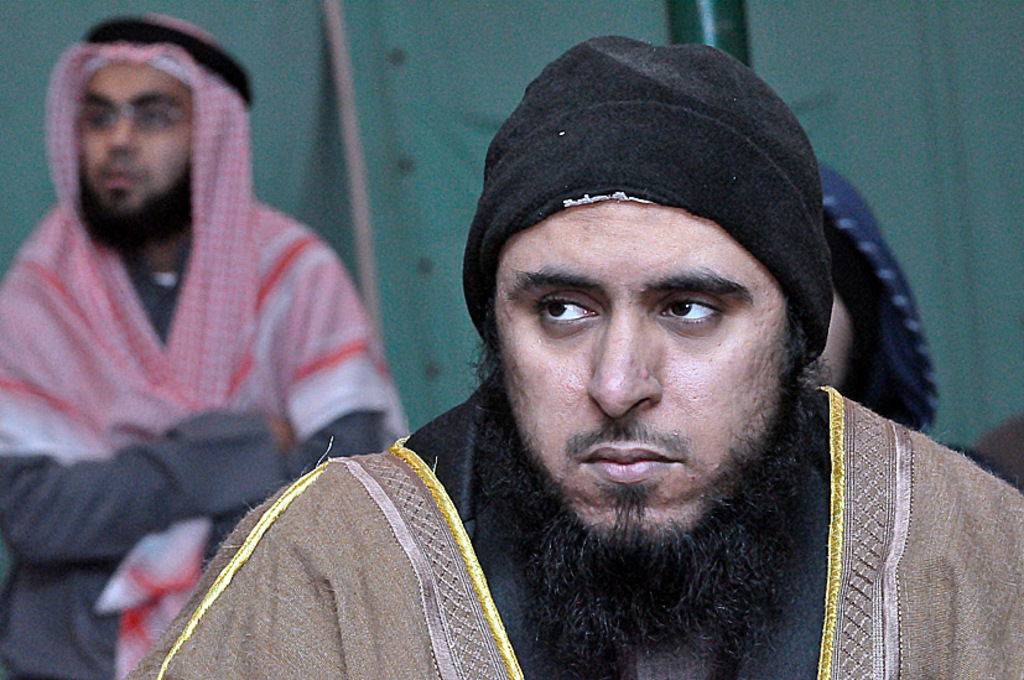face: (69, 55, 204, 210)
